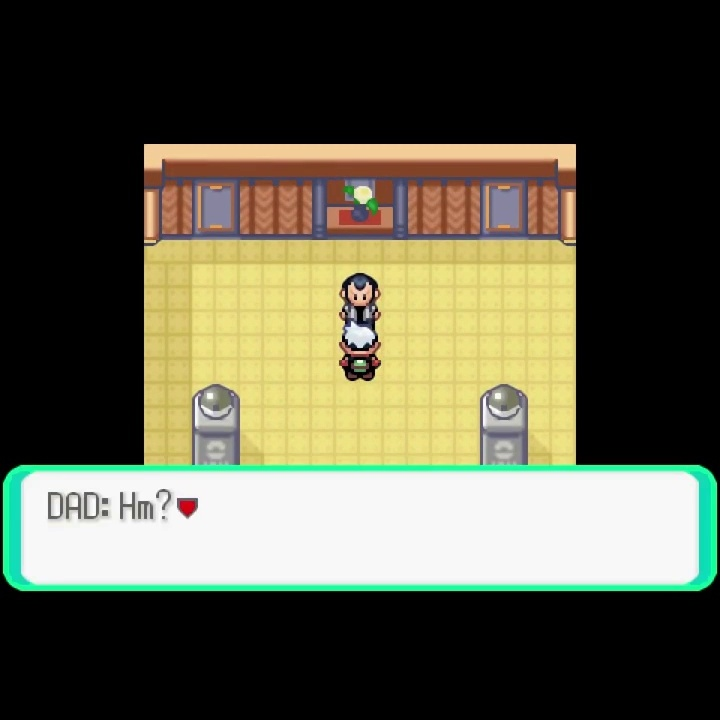agent: (336, 324, 384, 386)
npc: (337, 271, 383, 324)
